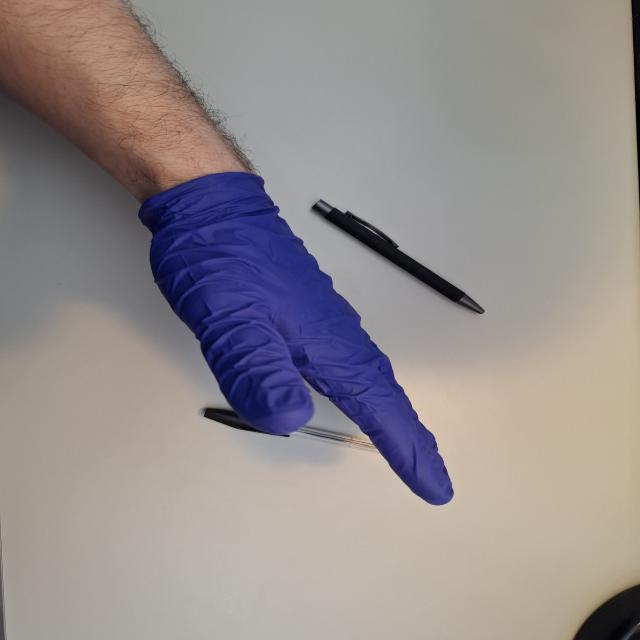glove_on: (137, 168, 457, 508)
